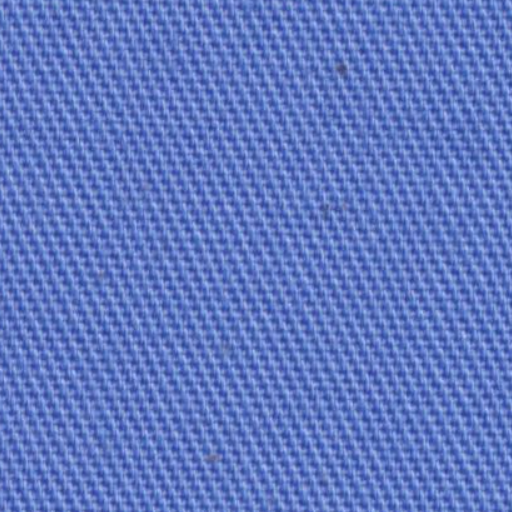WuZi: (304, 42, 370, 112), (296, 190, 376, 246), (190, 430, 232, 475)
